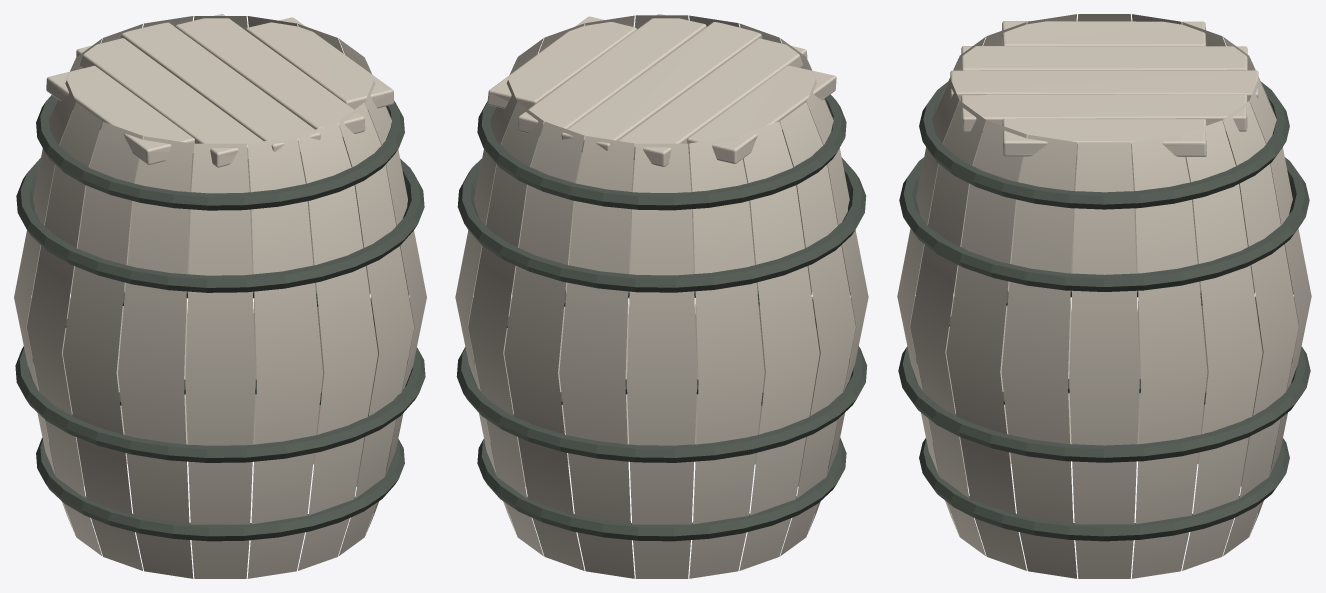
Rendered from SM_WLA_Barrel_A.fbx.
3 views of the same model, side by side, from view 1: azimuth 30°, elevation 25°; view 2: azimuth 150°, elevation 25°; view 3: azimuth 270°, elevation 25° (orthographic).
Visible parts, largest first — view 1: SM_WLA_Barrel_A; view 2: SM_WLA_Barrel_A; view 3: SM_WLA_Barrel_A.
Boxes of the visible parts, <box> form: SM_WLA_Barrel_A: <box>14,14,426,578</box>; SM_WLA_Barrel_A: <box>455,14,868,578</box>; SM_WLA_Barrel_A: <box>897,14,1311,578</box>.
Size of what is drawn, in the model's own units: 0.86 by 0.856 by 1.
